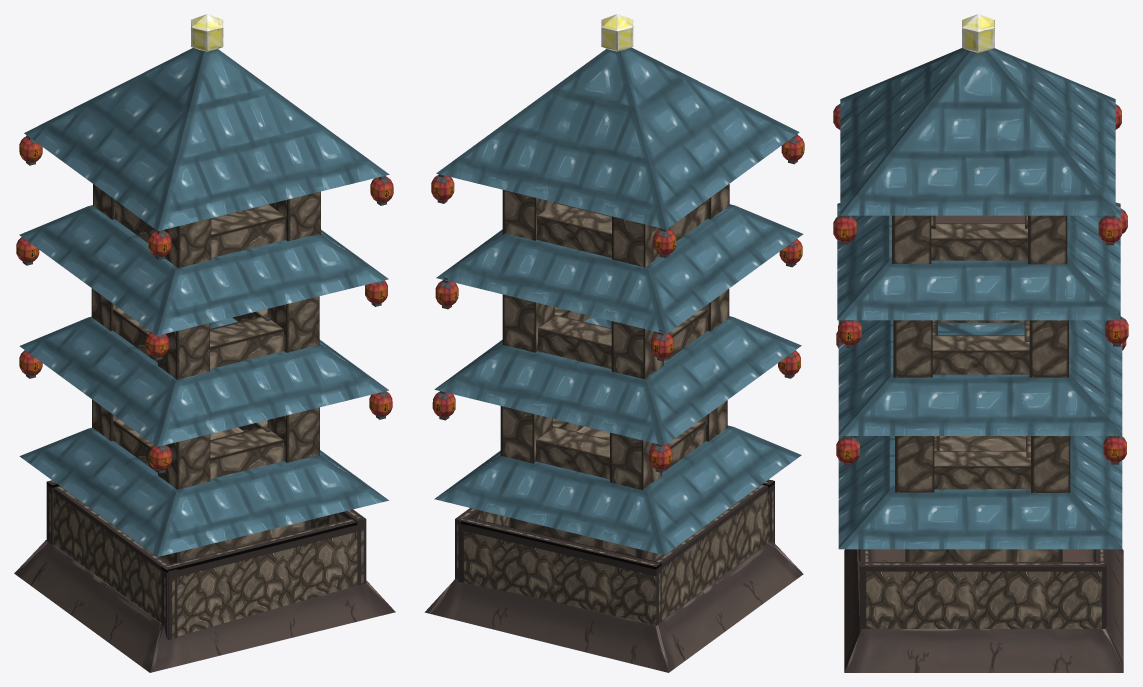
Rendered from sniper tower upgrade 2 .fbx.
3 views of the same model, side by side, from view 1: azimuth 30°, elevation 25°; view 2: azimuth 150°, elevation 25°; view 3: azimuth 270°, elevation 25° (orthographic). The views are drawn at different scales.
Visible parts, largest first — view 1: boven dak, dak 2 .2, dak 1, dak 2, base, Cube.2, Cube, Cube.12, Cube.11, Cube.11.2, Cube.3.2, Cube.4 (+13 smaller); view 2: boven dak, dak 2 .2, dak 2, dak 1, base, Cube.1, Cube, Cube.15, Cube.14, Cube.14.2, Cube.2.2, Cube.2.3 (+13 smaller); view 3: boven dak, dak 2 .2, dak 1, dak 2, Cube.3, base, Cube.9, Cube.9.2, Cube.13, eerste verdieping, Cube.1.2, Cube.4 (+12 smaller).
Boxes of the visible parts, x1,y1,x2,y2 form: boven dak: (24, 48, 389, 230); dak 2 .2: (19, 316, 388, 446); dak 1: (19, 427, 388, 556); dak 2: (19, 205, 388, 335); base: (14, 540, 395, 672); Cube.2: (161, 518, 357, 639); Cube: (53, 486, 177, 639); Cube.12: (211, 204, 285, 257); Cube.11: (210, 316, 283, 368); Cube.11.2: (210, 427, 284, 478); Cube.3.2: (158, 323, 209, 379); Cube.4: (267, 296, 319, 352); boven dak: (436, 47, 799, 229); dak 2 .2: (434, 316, 801, 445); dak 2: (436, 204, 803, 334); dak 1: (434, 425, 801, 555); base: (424, 541, 803, 672); Cube.1: (458, 517, 661, 625); Cube: (654, 484, 768, 619); Cube.15: (537, 202, 611, 257); Cube.14: (538, 314, 611, 368); Cube.14.2: (536, 426, 609, 479); Cube.2.2: (611, 321, 663, 379); Cube.2.3: (610, 432, 661, 490); boven dak: (840, 48, 1115, 215); dak 2 .2: (838, 320, 1122, 435); dak 1: (838, 436, 1122, 549); dak 2: (837, 202, 1120, 320); Cube.3: (859, 562, 1105, 632); base: (844, 549, 1123, 672); Cube.9: (932, 335, 1029, 374); Cube.9.2: (934, 451, 1030, 489); Cube.13: (931, 223, 1027, 260); eerste verdieping: (905, 436, 1062, 561); Cube.1.2: (1029, 320, 1068, 377); Cube.4: (893, 320, 932, 377).
Size of the model in its own units: 371 by 839 by 375.
48 materials, 48 textured.
